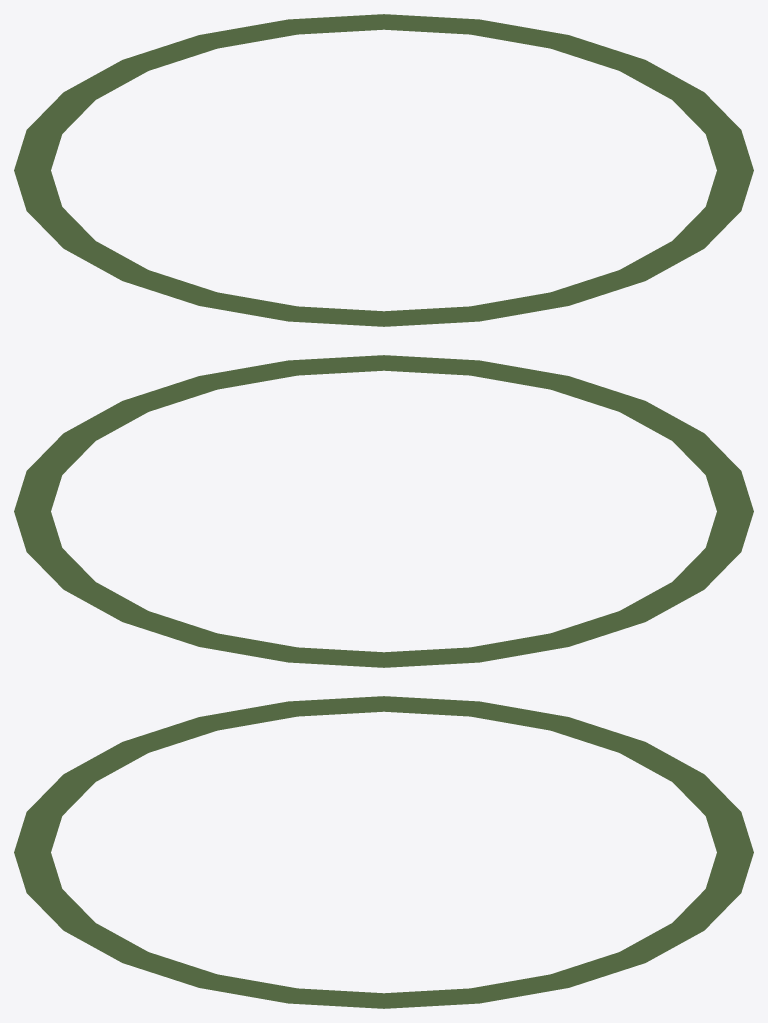
The model's file is cave_ripple.glb.
3 views of the same model, one above another, from view 1: azimuth 30°, elevation 25°; view 2: azimuth 150°, elevation 25°; view 3: azimuth 270°, elevation 25° (orthographic).
Parts seen in each view (by area): view 1: cave_ripple; view 2: cave_ripple; view 3: cave_ripple.
Boxes of the visible parts, <box> form: cave_ripple: <box>14,14,753,326</box>; cave_ripple: <box>14,355,753,667</box>; cave_ripple: <box>14,696,753,1008</box>.
Size of the model in its own units: 2 by 0 by 2.
Materials: 1 (1 with a texture image).
